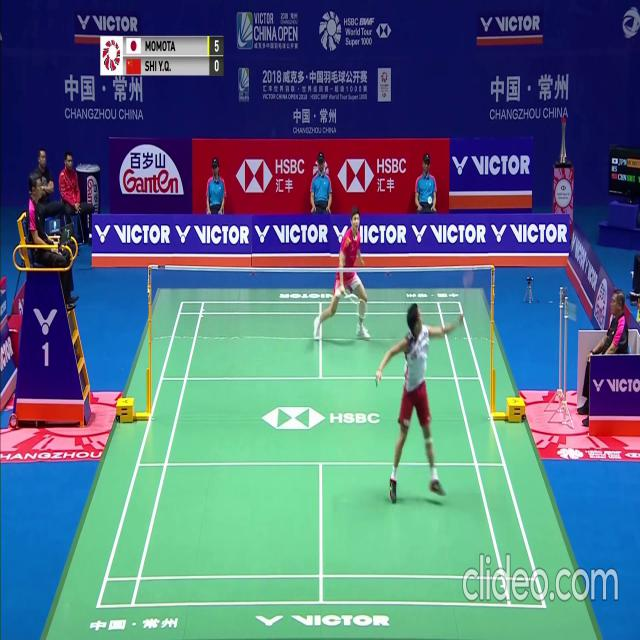Shuttlecock: (428, 195, 433, 202)
